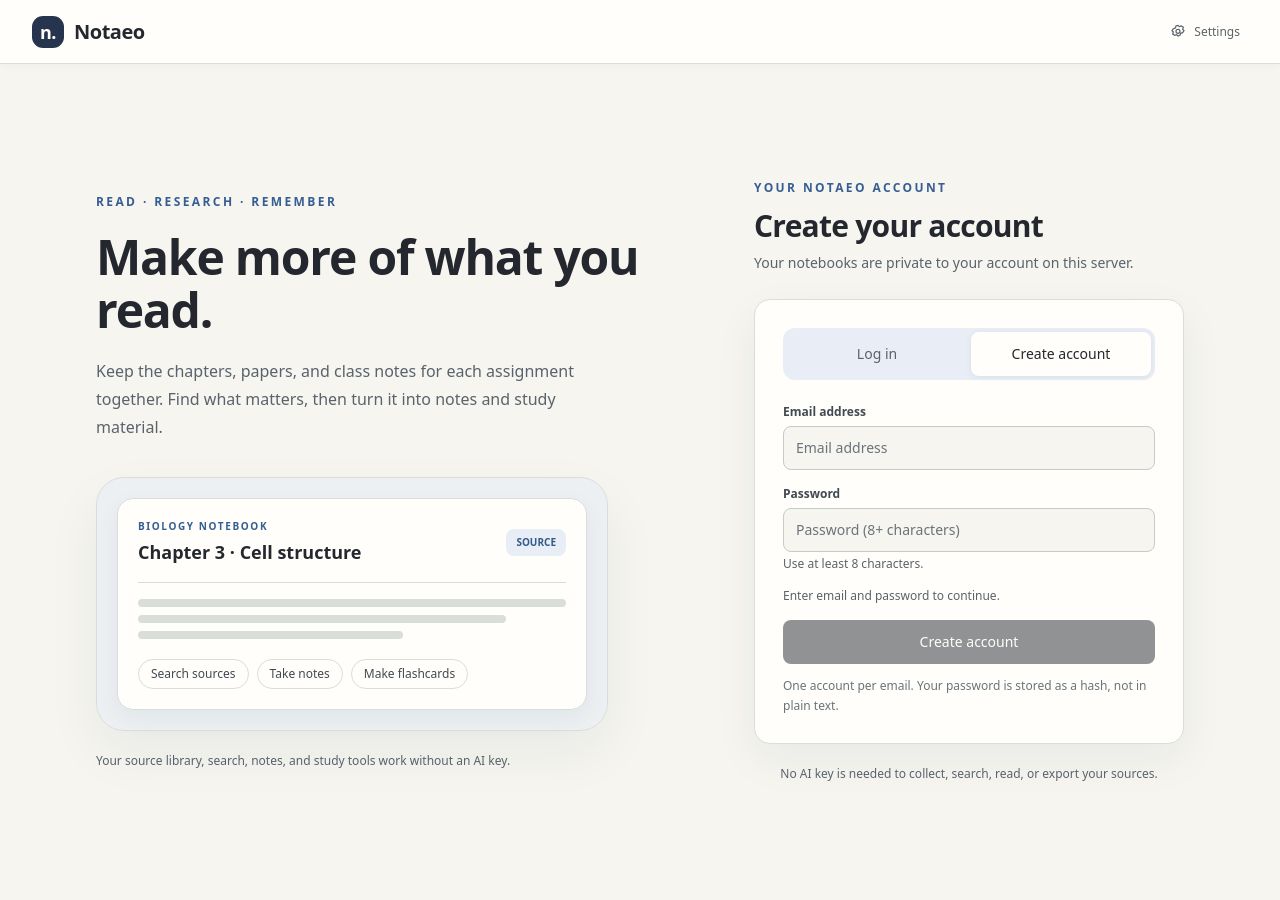
Test: offers device settings before signing in
Step 1. Click the button "Settings" → (1205, 32), box 1158,10 -> 1252,54
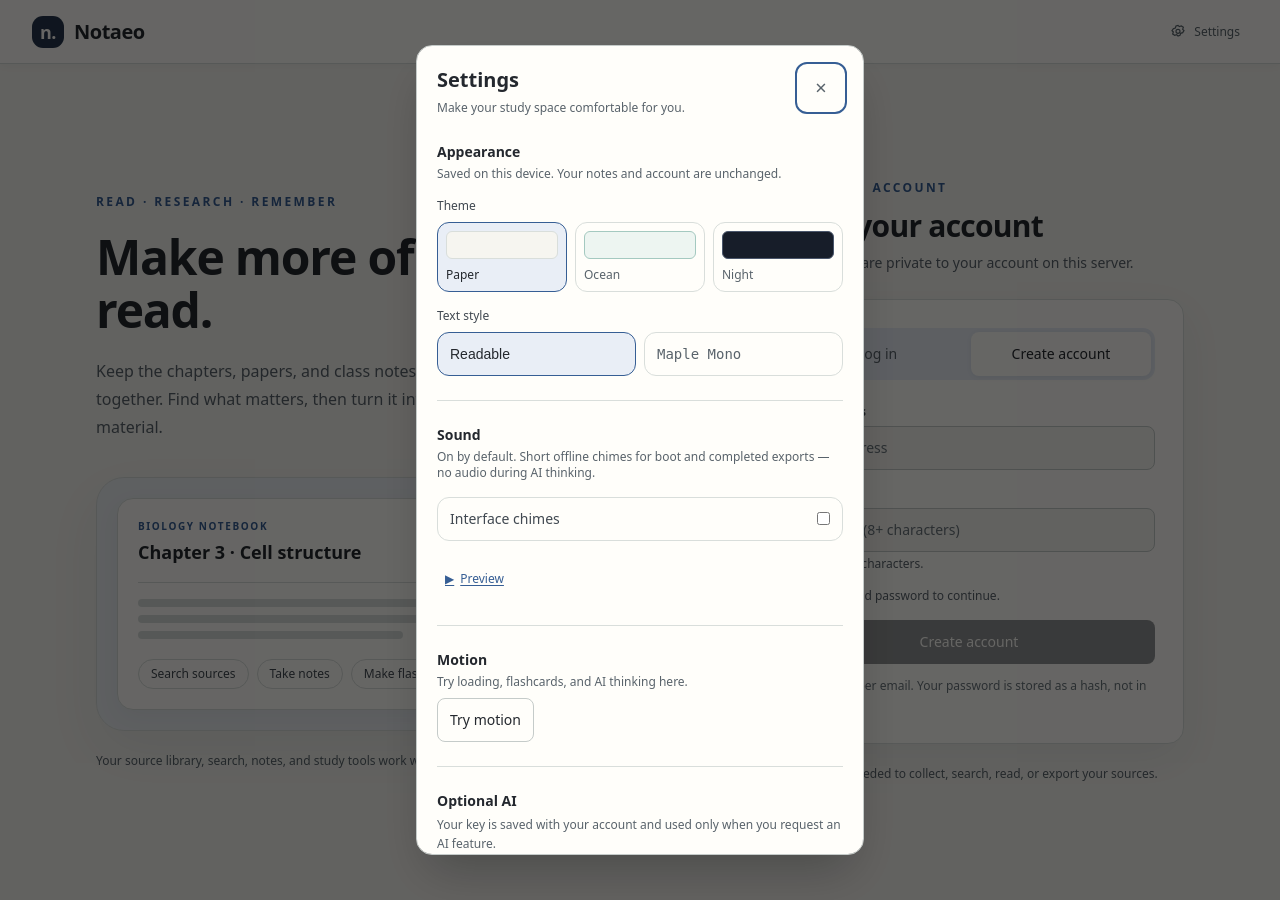
Expected: the dialog "Settings" is shown, 416,45 -> 864,855
Expected: the heading "Appearance" is shown, 437,142 -> 520,160
